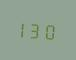one: (18, 18, 29, 39)
three: (31, 19, 42, 40)
zero: (43, 20, 54, 41)
